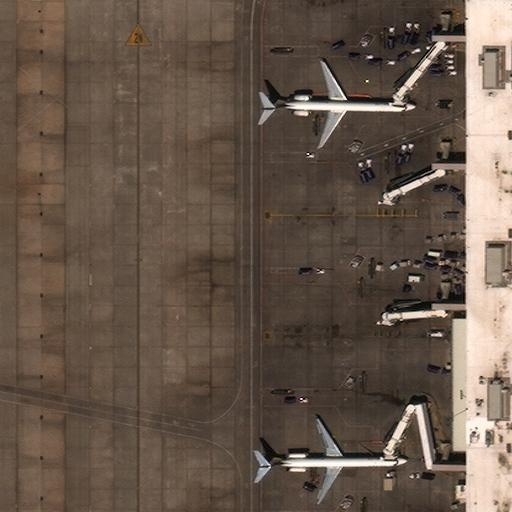Medium Civil Transport: (260, 60, 419, 148), (255, 418, 411, 505)
